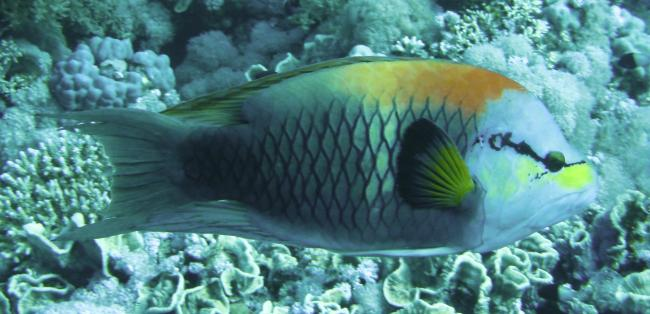fish: (51, 57, 596, 258)
